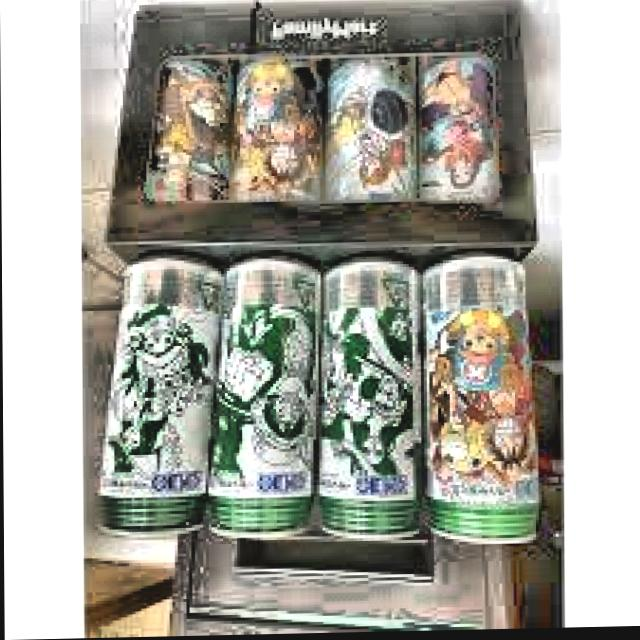can: (88, 254, 230, 548), (413, 255, 549, 558), (203, 261, 326, 546), (309, 260, 428, 547)
